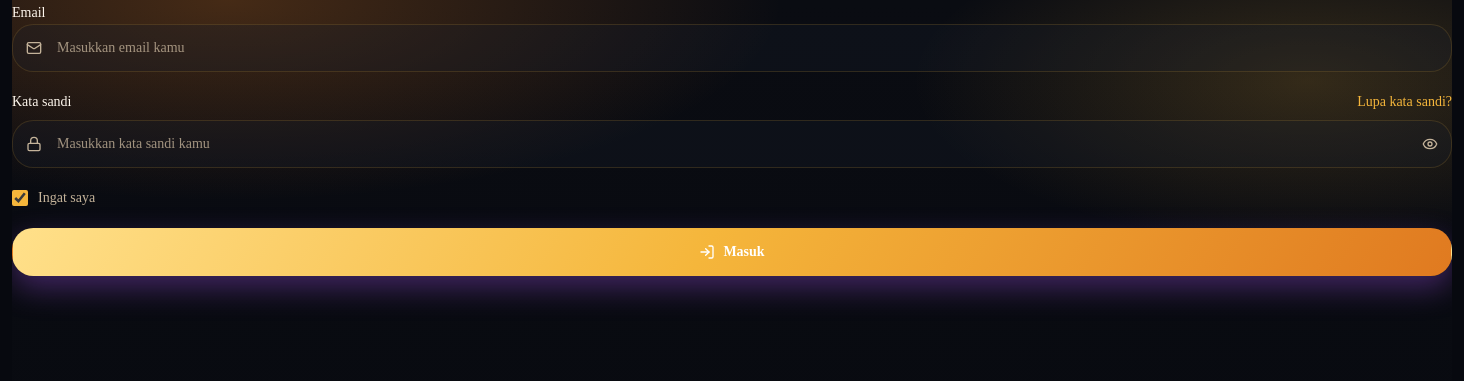
Test: LoginForm › shows validation and API errors in Indonesian
This screenshot has width=1464, height=381.
Step 1. Click the button "Masuk" → (732, 252), box [12,228,1452,276]
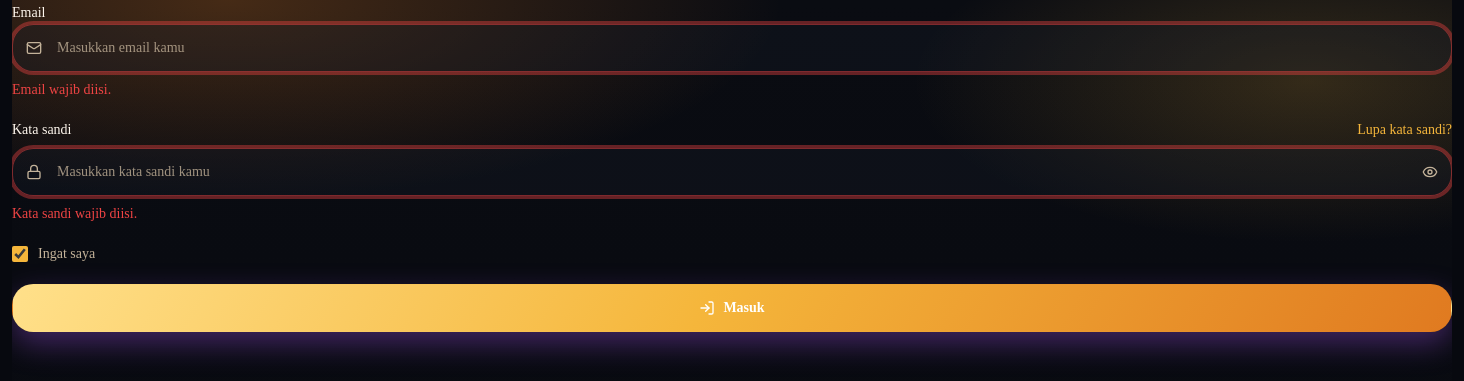
Check: the text "Email wajib diisi." is shown, box [12,82,111,97]
Check: the text "Kata sandi wajib diisi." is shown, box [12,206,137,221]
Step 2. Type "player@example.com" into the field labelled "Email" → (732, 48), box [12,24,1452,72]
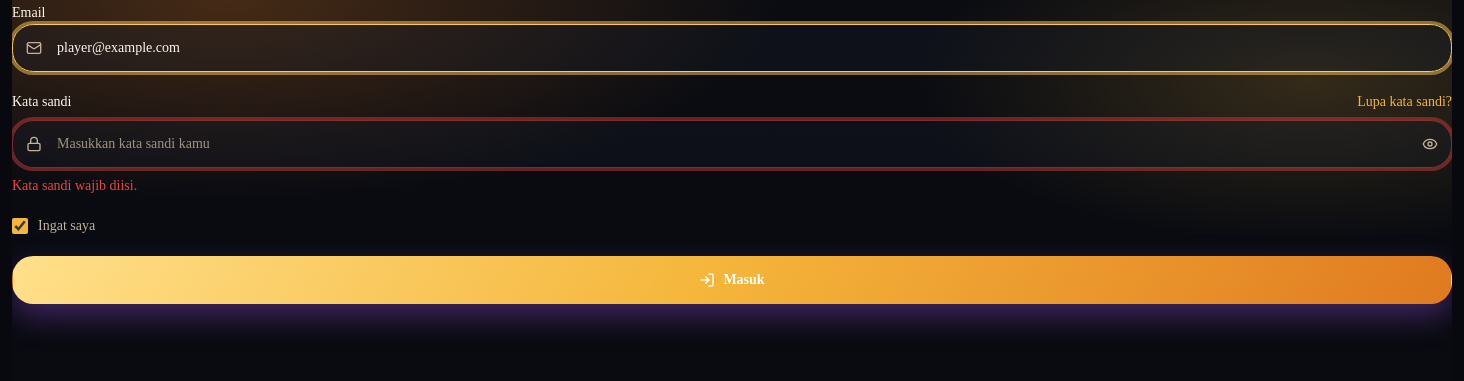
Step 3. Type "bad-password" into the password field labelled "Kata sandi" → (732, 144), box [12,120,1452,168]
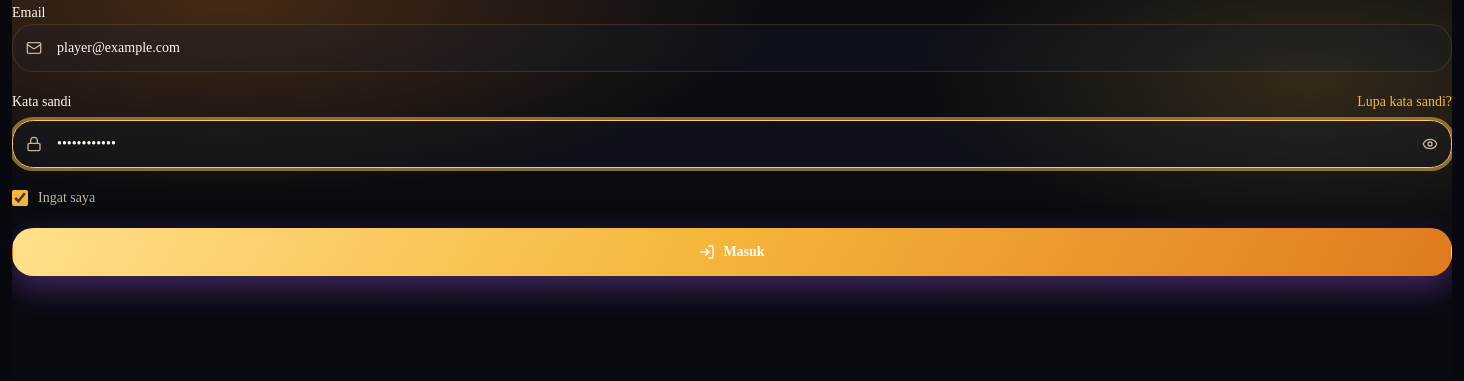
Step 4. Click the button "Masuk" → (732, 252), box [12,228,1452,276]
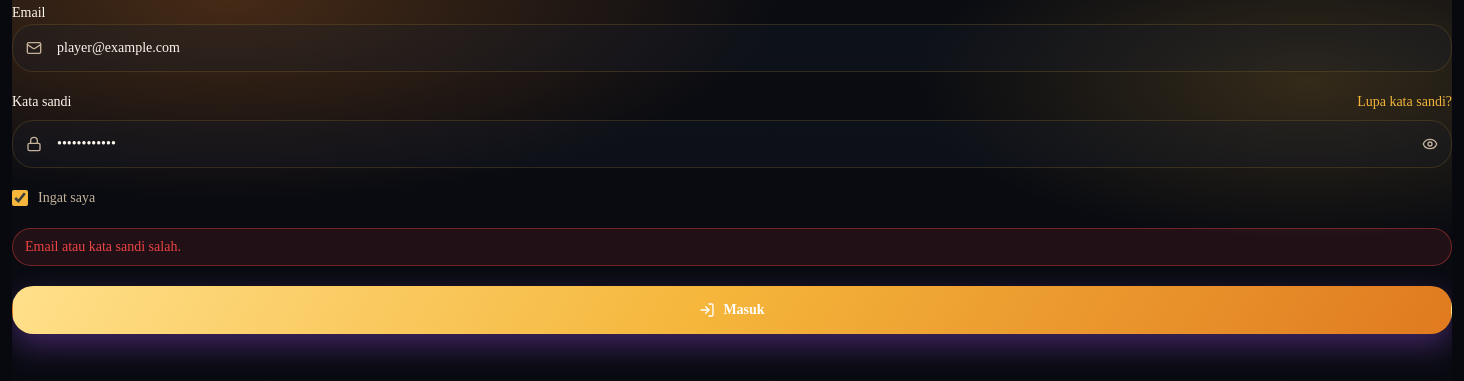
Check: the text "Email atau kata sandi salah." is shown, box [12,228,1452,266]
